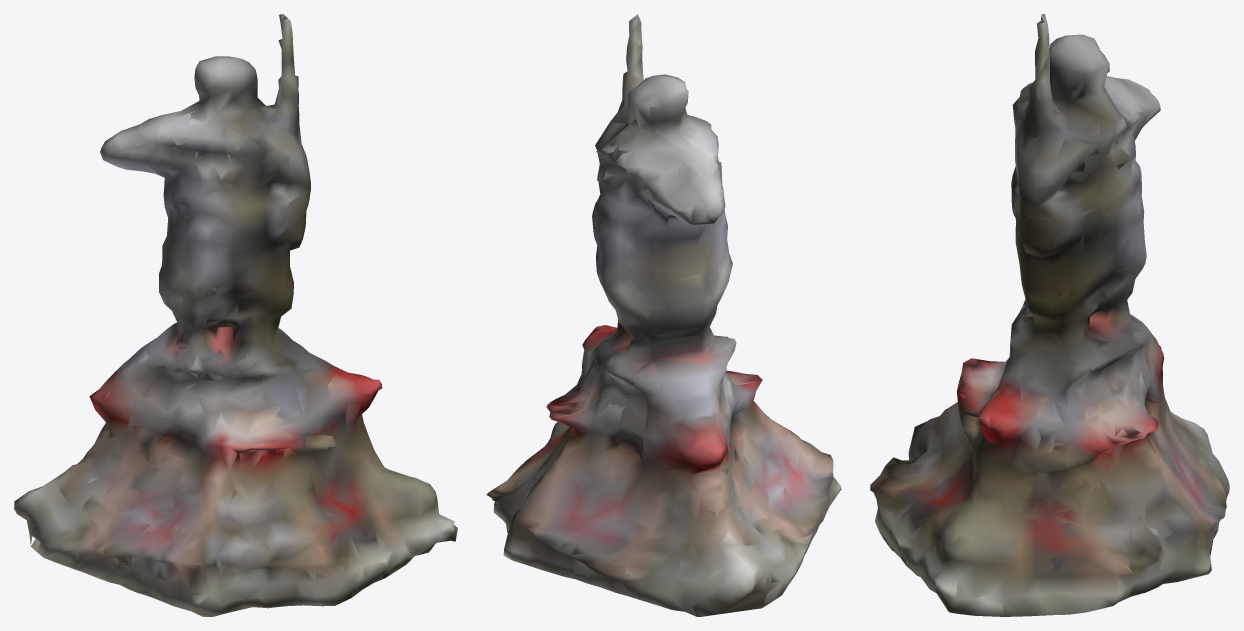
Rendered from soviet_barracks.glb.
The picture shows the model from 3 angles, left to right: view 1: azimuth 30°, elevation 25°; view 2: azimuth 150°, elevation 25°; view 3: azimuth 270°, elevation 25°; orthographic projection. The views are drawn at different scales.
Parts seen in each view (by area): view 1: soviet_barracks; view 2: soviet_barracks; view 3: soviet_barracks.
Boxes of the visible parts, box(x1,y1,x2,y2) form: soviet_barracks: box(14, 14, 457, 616); soviet_barracks: box(486, 14, 841, 616); soviet_barracks: box(870, 14, 1229, 616).
Size of the model in its own units: 1.03 by 1.6 by 0.9615.
